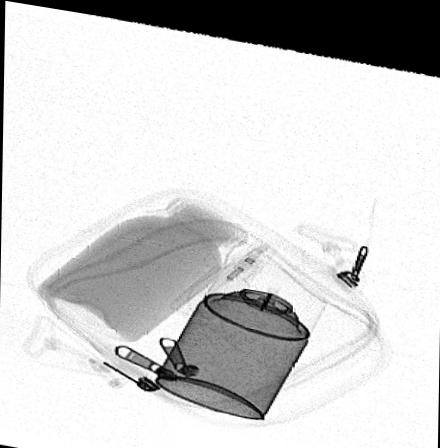Sprayer: (152, 251, 328, 410)
